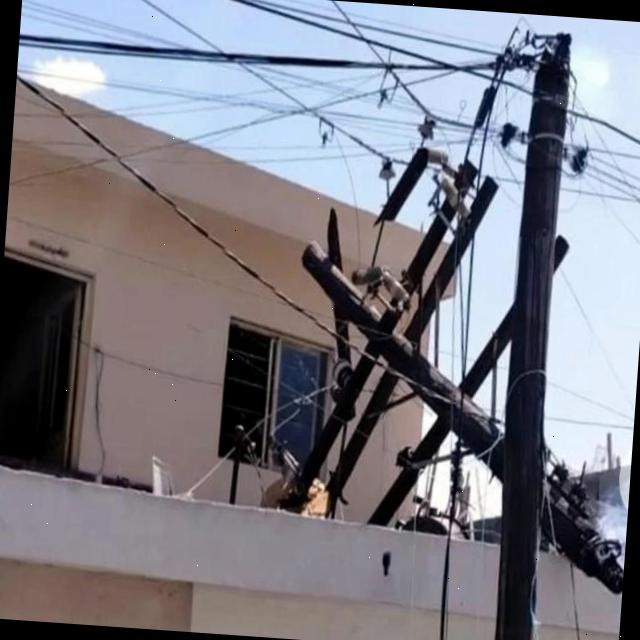Broken Pole: (270, 34, 626, 640)
